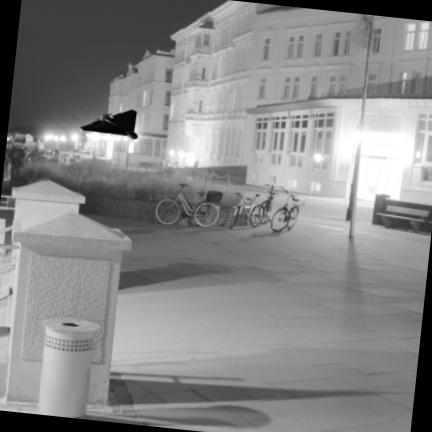Shahed: (79, 110, 137, 138)
